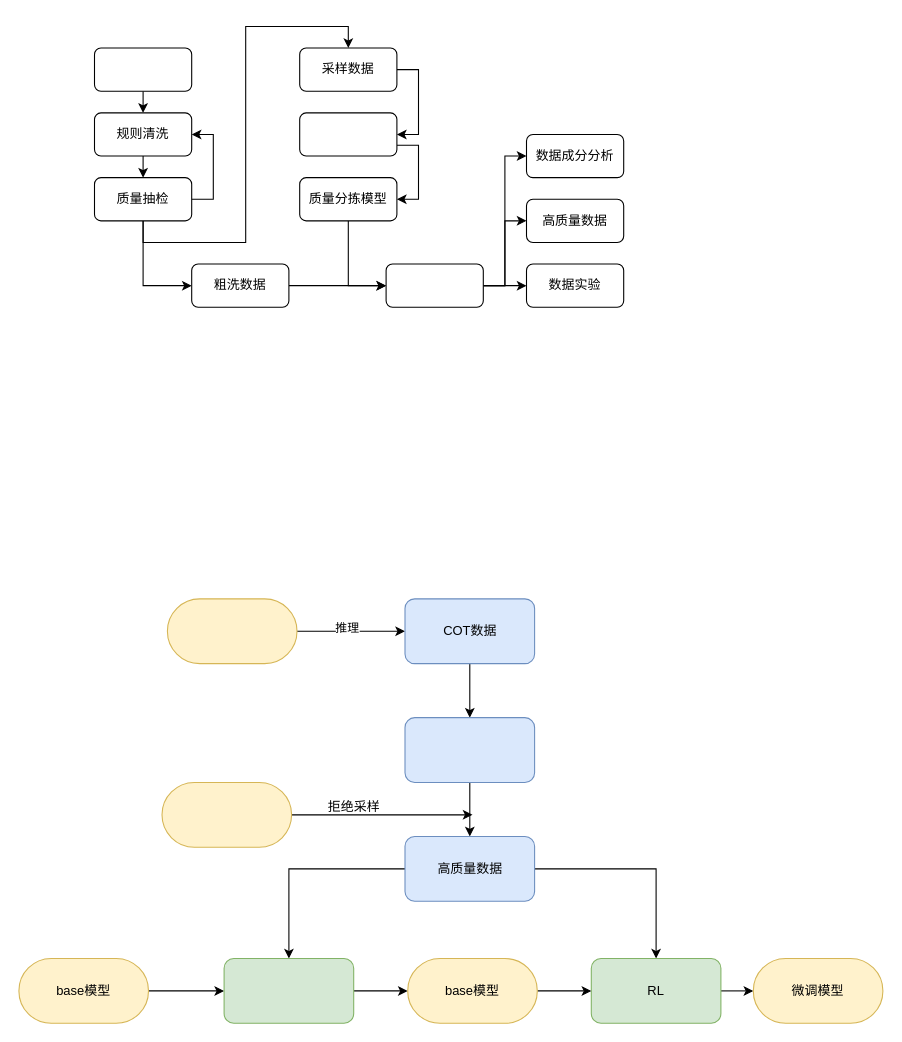
This 902x1042 diagram has some shape labels left out. The centre of each missing label's shape, as x and y in pixels:
"R1模型" goes at (x=231, y=631).
"SFT" goes at (x=288, y=990).
"异质脏数据" goes at (x=142, y=69).
"正确数据" goes at (x=469, y=749).
"精标数据" goes at (x=434, y=285).
"评判模型" goes at (x=226, y=814).
"采样数据标签" goes at (x=348, y=134).
